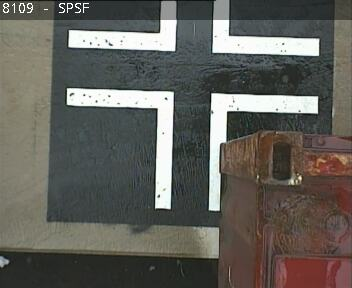groundmarker_1: (66, 87, 317, 209), (69, 1, 319, 57)
